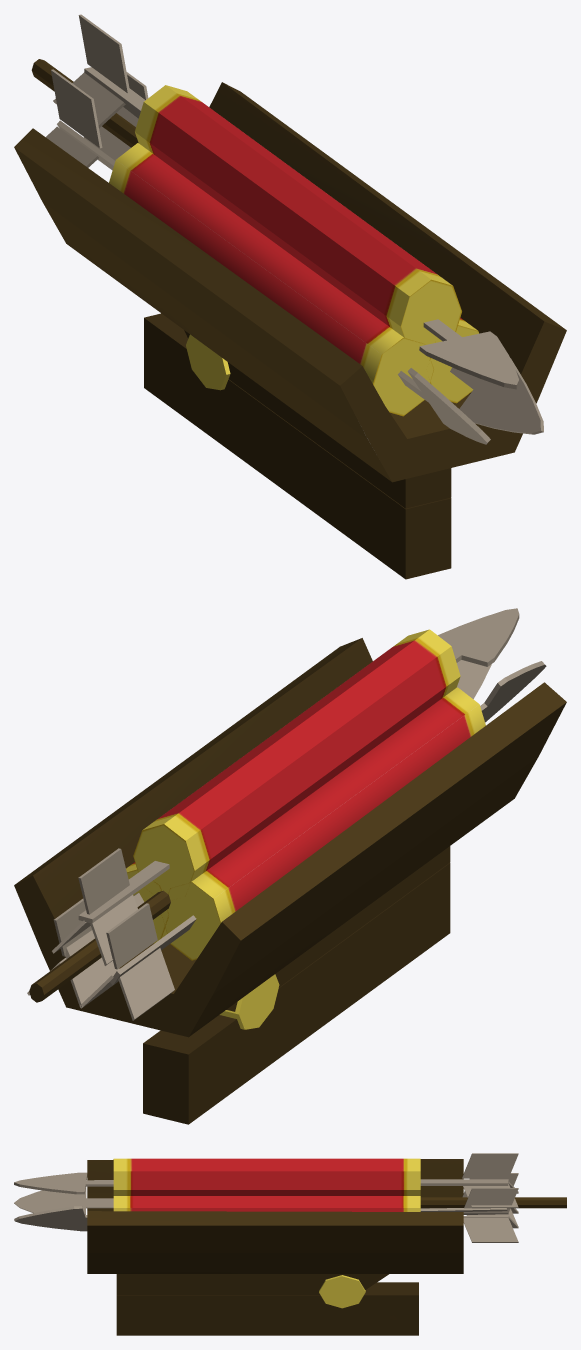
File: darkness_tower_rocket1.FBX
3 renders of one model, top to bottom at view 1: azimuth 30°, elevation 25°; view 2: azimuth 150°, elevation 25°; view 3: azimuth 270°, elevation 25°, orthographic. The views are drawn at different scales.
Visible parts, largest first — view 1: rocket1; view 2: rocket1; view 3: rocket1.
Part boxes in pixels (left/top/right/bottom): rocket1: left=14, top=14, right=566, bottom=579; rocket1: left=14, top=608, right=566, bottom=1124; rocket1: left=14, top=1153, right=566, bottom=1335.
Size of the model in its own units: 2.61 by 3.34 by 9.54.
